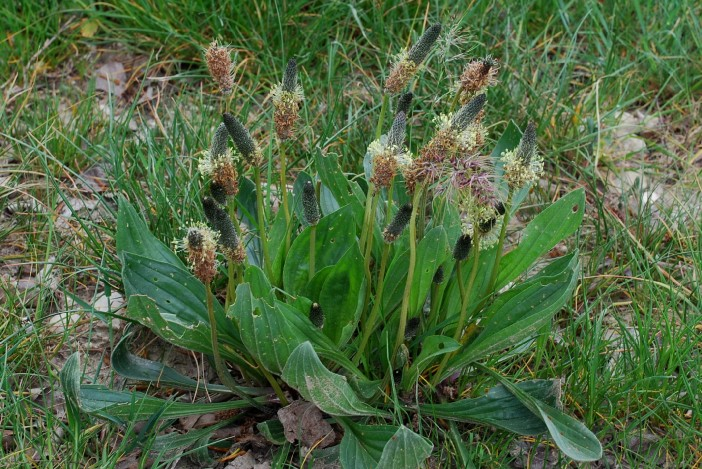buckhorn plantain: (82, 33, 581, 438)
